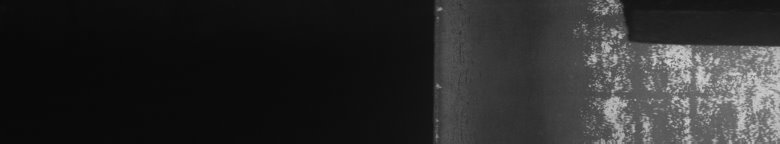kb: (574, 4, 776, 136)
